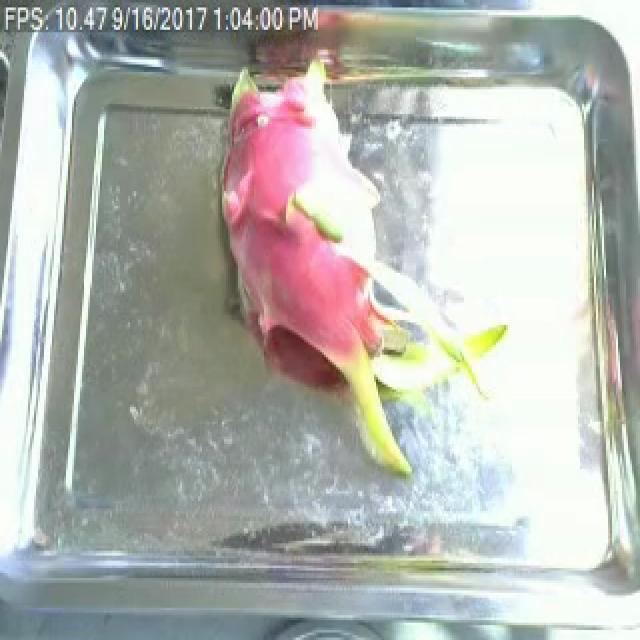fruit: (216, 72, 506, 466)
